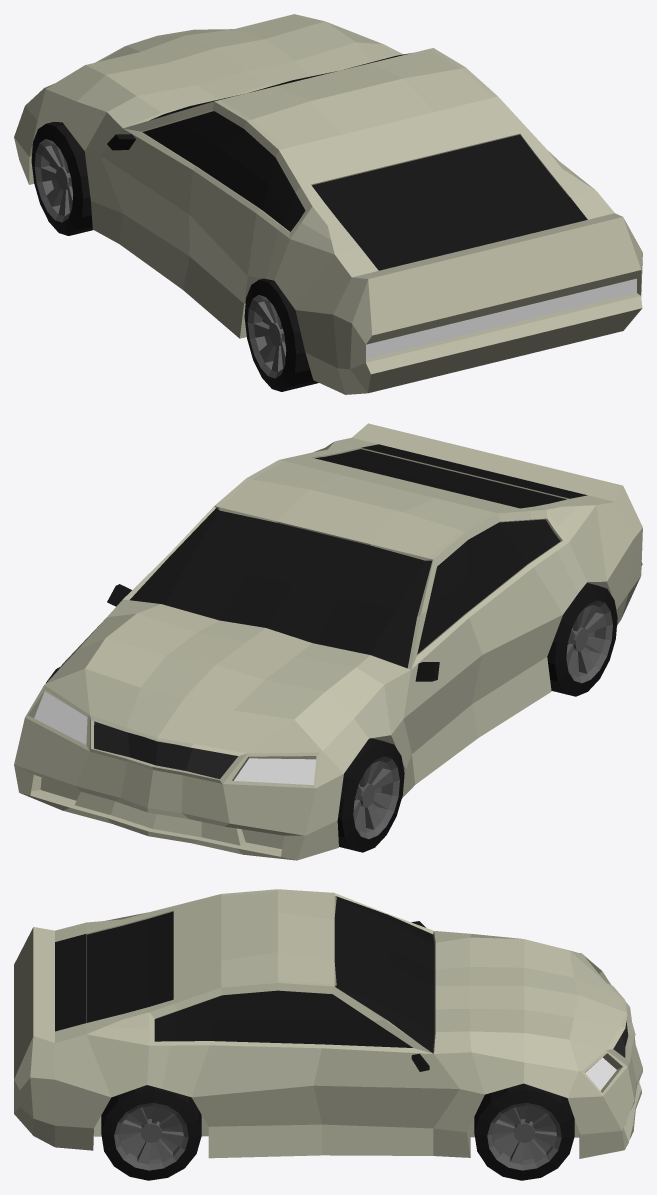
The model's file is Hendrik_Car_V2.fbx.
3 views of the same model, one above another, from view 1: azimuth 30°, elevation 25°; view 2: azimuth 150°, elevation 25°; view 3: azimuth 270°, elevation 25° (orthographic). The views are drawn at different scales.
Visible parts, largest first — view 1: car; view 2: car; view 3: car.
Boxes of the visible parts, <box> form: car: <box>14,14,642,394</box>; car: <box>14,423,642,860</box>; car: <box>14,889,642,1180</box>.
Size of the model in its own units: 233 by 140 by 443.
